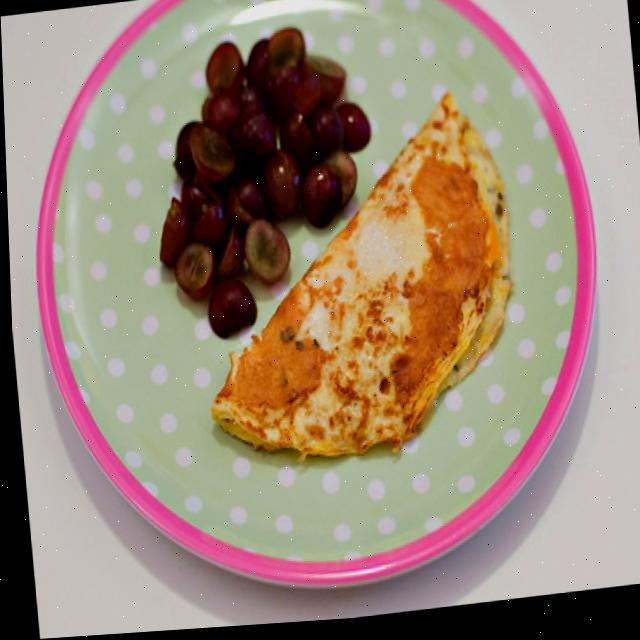鸡蛋料理: (190, 75, 547, 490)
